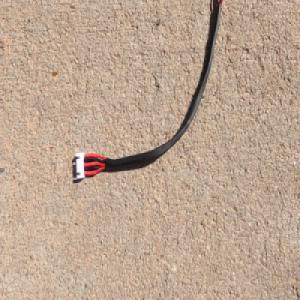Wire: (73, 0, 225, 182)
